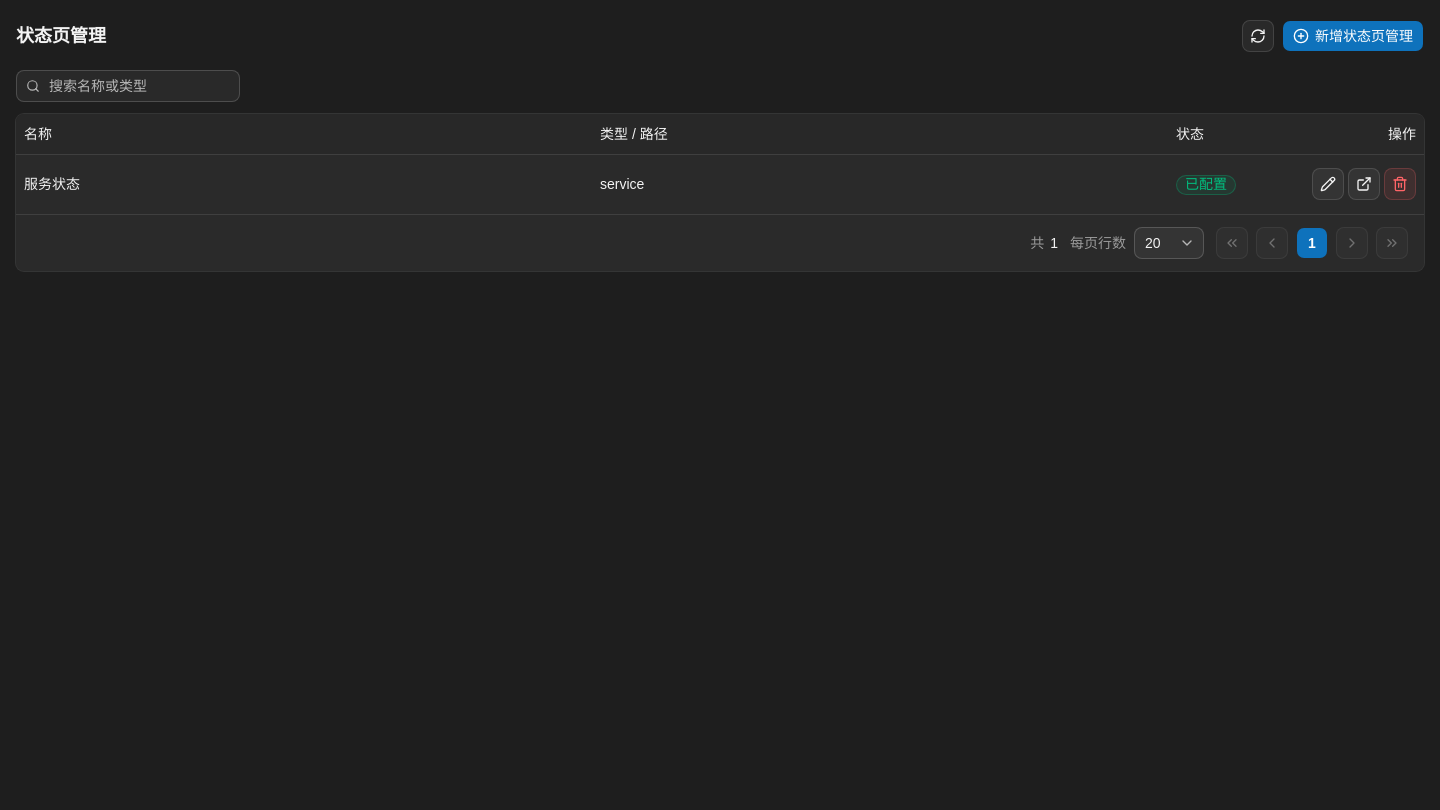
Scenario: 读取中取消编辑，迟到的详情不会重新打开弹窗
Click the button named "编辑": (1328, 184) [1312,168,1344,200]
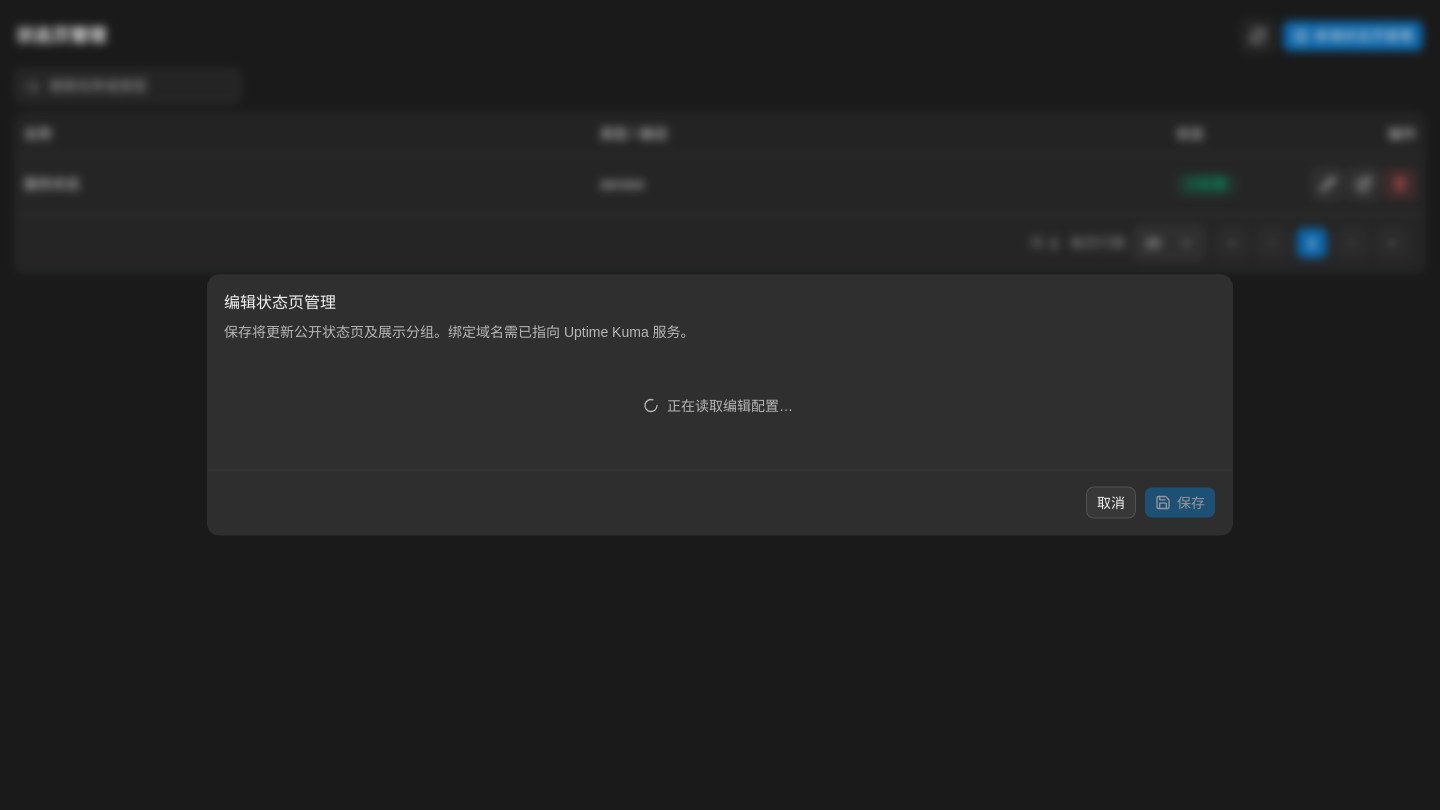
Click the button "取消": (1111, 502) [1086,486,1136,518]
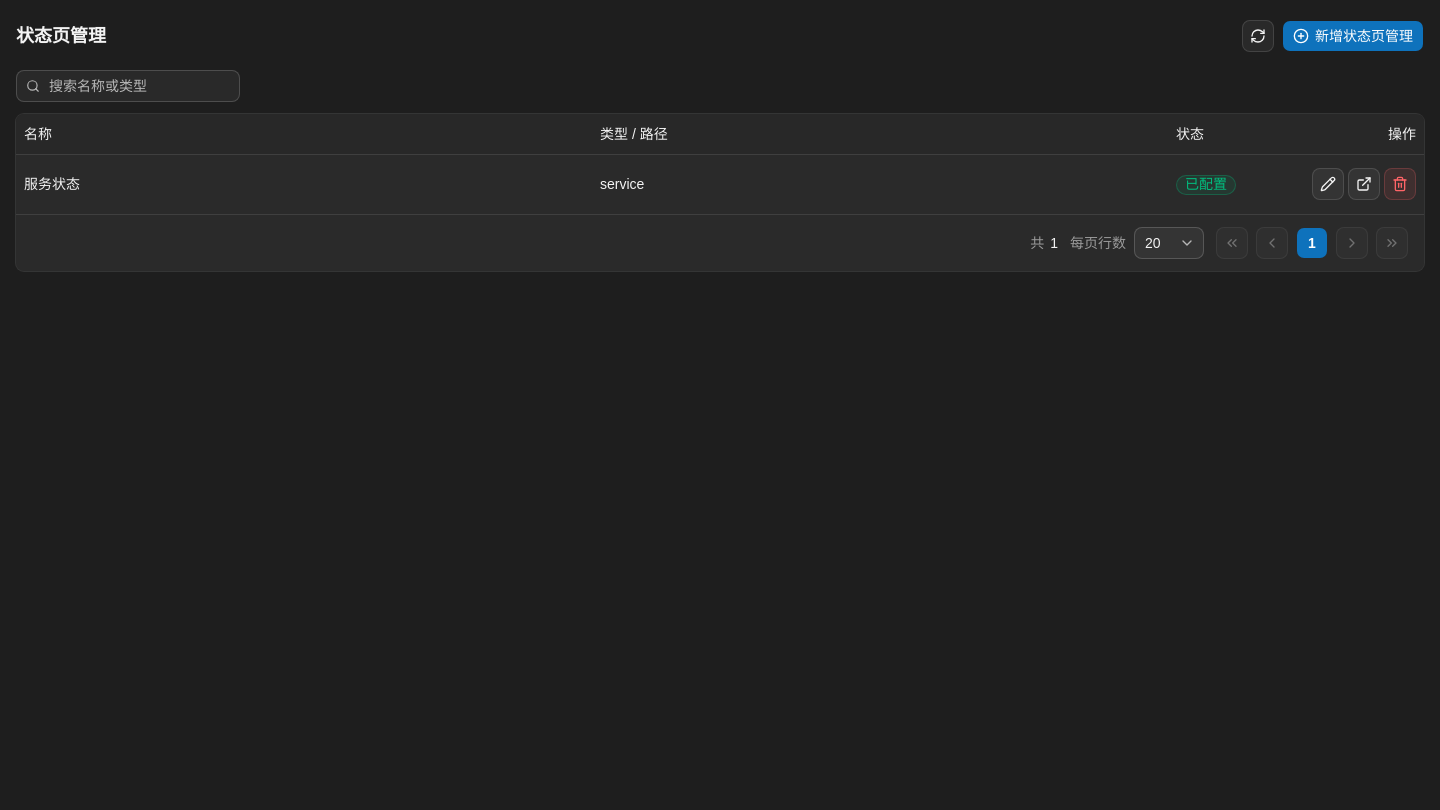
Result: the dialog is gone
